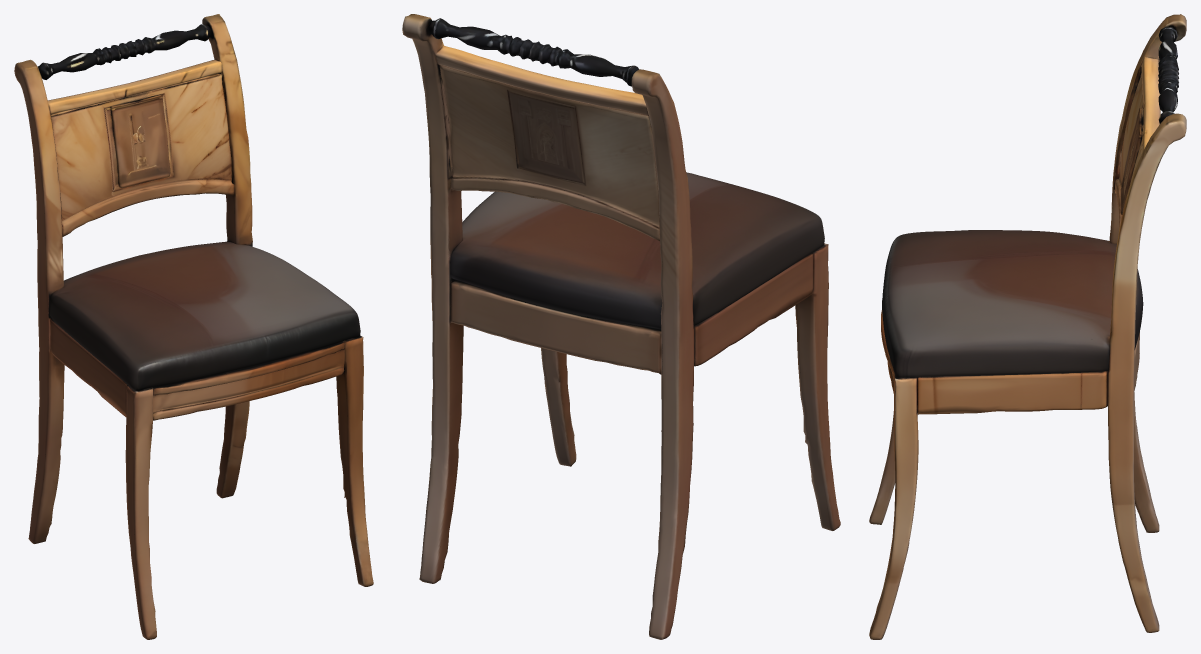
The picture shows the model from 3 angles, left to right: view 1: azimuth 30°, elevation 25°; view 2: azimuth 150°, elevation 25°; view 3: azimuth 270°, elevation 25°; orthographic projection. The views are drawn at different scales.
Parts seen in each view (by area): view 1: root.0, root.1, root.2, root.3, root.4, root.6, root.7, root.12, root.10, root.8, root.11; view 2: root.0, root.1, root.2, root.3, root.5, root.6, root.8, root.11, root.10, root.7; view 3: root.0, root.3, root.9, root.7, root.2, root.10, root.11, root.1, root.6, root.12.
Boxes of the visible parts, left/top/right/bottom form: root.0: left=49, top=241, right=360, bottom=390; root.1: left=50, top=73, right=234, bottom=236; root.2: left=14, top=59, right=64, bottom=543; root.3: left=202, top=14, right=252, bottom=498; root.4: left=152, top=341, right=345, bottom=420; root.6: left=125, top=385, right=156, bottom=639; root.7: left=336, top=335, right=373, bottom=586; root.12: left=110, top=94, right=170, bottom=188; root.10: left=38, top=24, right=211, bottom=79; root.8: left=50, top=319, right=127, bottom=416; root.11: left=47, top=60, right=222, bottom=113; root.0: left=450, top=172, right=824, bottom=329; root.1: left=439, top=65, right=659, bottom=241; root.2: left=631, top=69, right=694, bottom=639; root.3: left=402, top=14, right=463, bottom=583; root.5: left=450, top=280, right=661, bottom=374; root.6: left=795, top=243, right=840, bottom=530; root.8: left=694, top=253, right=813, bottom=366; root.11: left=436, top=45, right=648, bottom=115; root.10: left=428, top=18, right=638, bottom=86; root.7: left=541, top=348, right=576, bottom=466; root.0: left=882, top=230, right=1143, bottom=377; root.3: left=1108, top=113, right=1186, bottom=632; root.9: left=917, top=371, right=1108, bottom=414; root.7: left=869, top=372, right=918, bottom=639; root.2: left=1109, top=14, right=1186, bottom=532; root.10: left=1158, top=26, right=1178, bottom=123; root.11: left=1141, top=57, right=1160, bottom=153; root.1: left=1114, top=73, right=1143, bottom=232; root.6: left=869, top=411, right=895, bottom=524; root.12: left=1120, top=108, right=1143, bottom=215.
Bounding box in the file's own units: 0.413 × 0.81 × 0.4539.
Materials: 13 (13 with a texture image).
